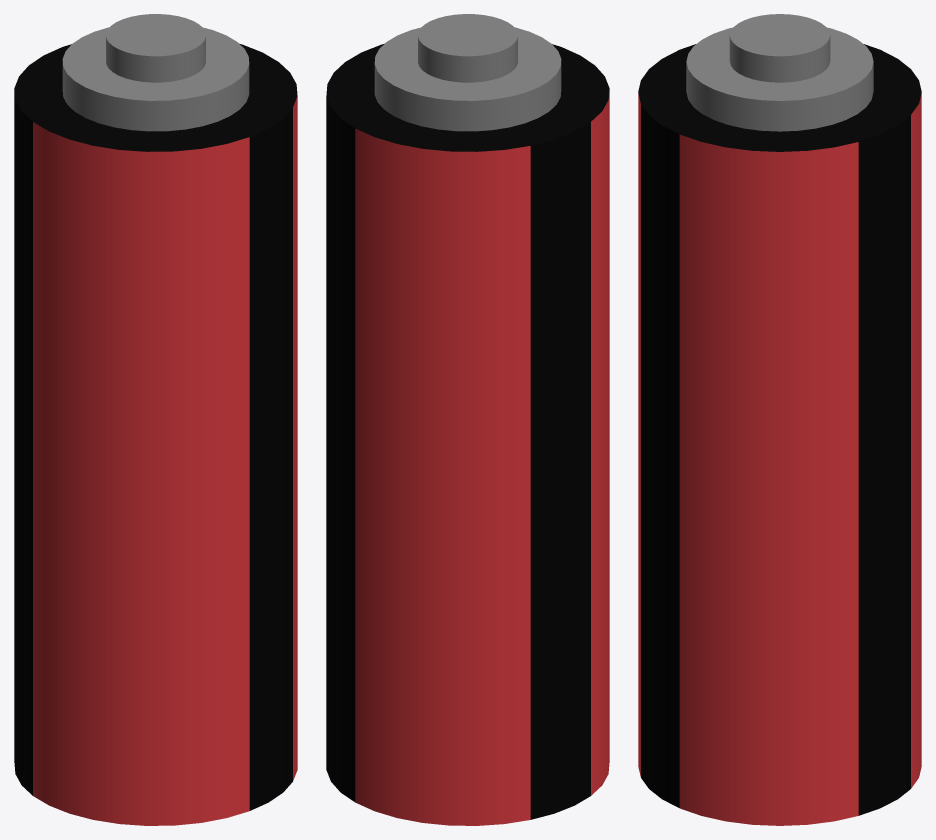
Rendered from baterry.fbx.
The picture shows the model from 3 angles, left to right: view 1: azimuth 30°, elevation 25°; view 2: azimuth 150°, elevation 25°; view 3: azimuth 270°, elevation 25°; orthographic projection.
Visible parts, largest first — view 1: Cylinder; view 2: Cylinder; view 3: Cylinder.
Boxes of the visible parts, bbox=[...] form: Cylinder: bbox=[14, 14, 297, 825]; Cylinder: bbox=[326, 14, 609, 825]; Cylinder: bbox=[638, 14, 921, 825].
Bounding box in the file's own units: 50.58 × 145 × 50.58.
